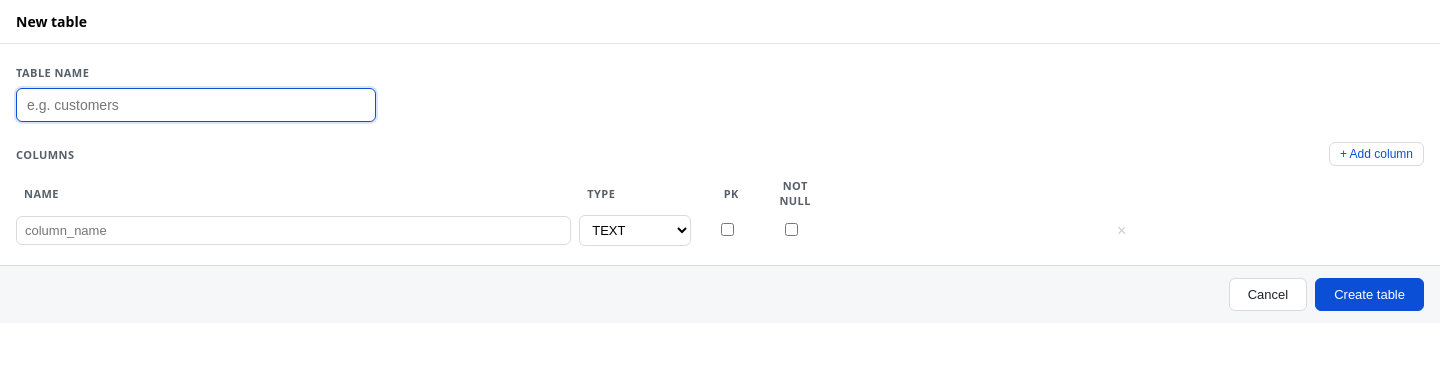
Test case: TableForm (create mode) › adds and removes columns (the last column can't be removed)
Expected: the button named "Remove column" is disabled, x1=1110 y1=218 x2=1134 y2=242
Click the button "+ Add column" at (1376, 154), box x1=1329 y1=142 x2=1424 y2=166
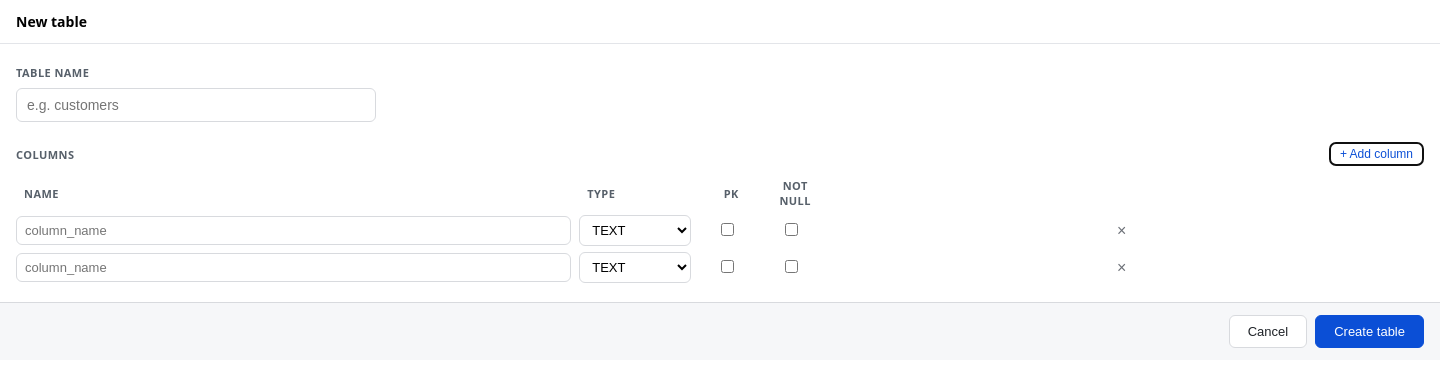
Now the number of fields named "Column name" is 2, box x1=16 y1=216 x2=571 y2=245; x1=16 y1=253 x2=571 y2=282
Now the button named "Remove column" is enabled
Click the button named "Remove column" at (1122, 230), box x1=1110 y1=218 x2=1134 y2=242
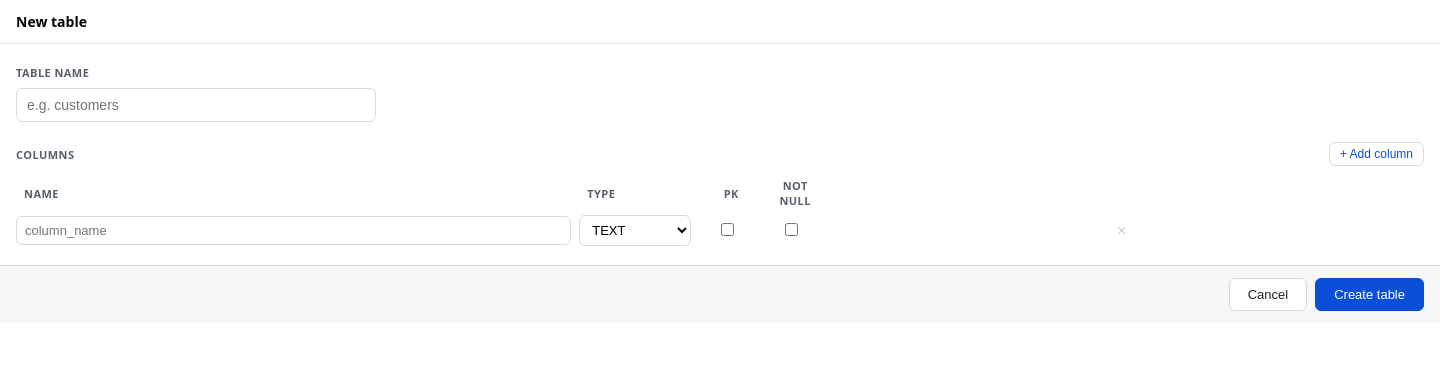
Now the number of fields named "Column name" is 1, box x1=16 y1=216 x2=571 y2=245
